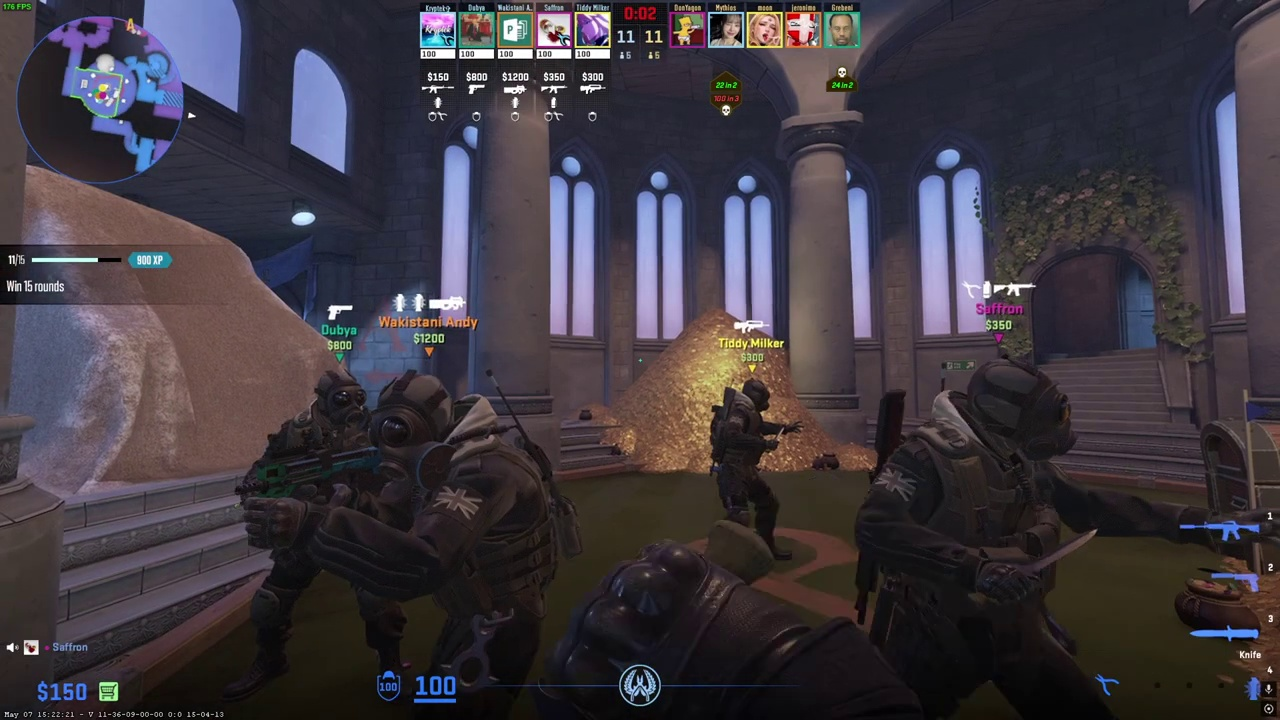CT: (861, 357, 1113, 720), (366, 372, 556, 720), (250, 367, 376, 702), (710, 378, 791, 555)
